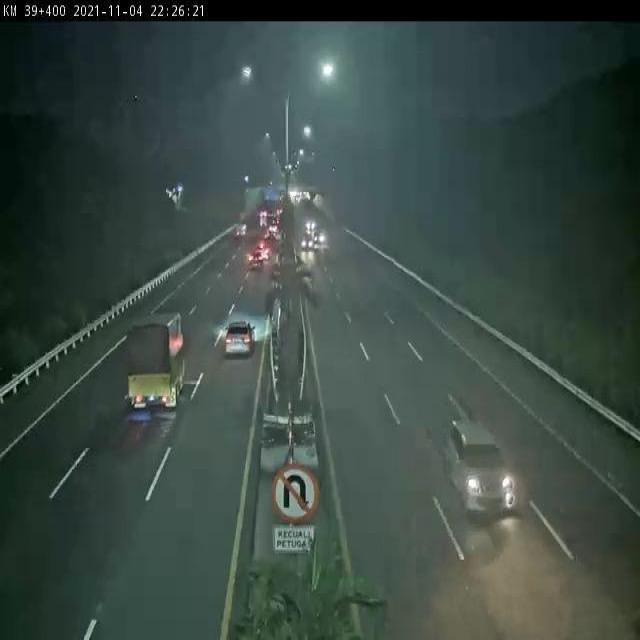car: (448, 420, 517, 517), (222, 320, 254, 356), (247, 249, 263, 268), (257, 243, 271, 261), (301, 234, 314, 250), (314, 232, 325, 244)
truck-m-: (128, 313, 187, 415)
